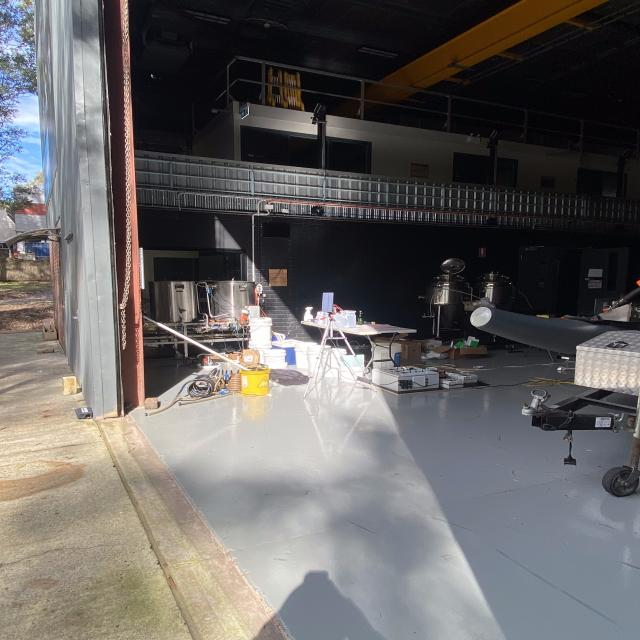matrix: (321, 292, 335, 314)
